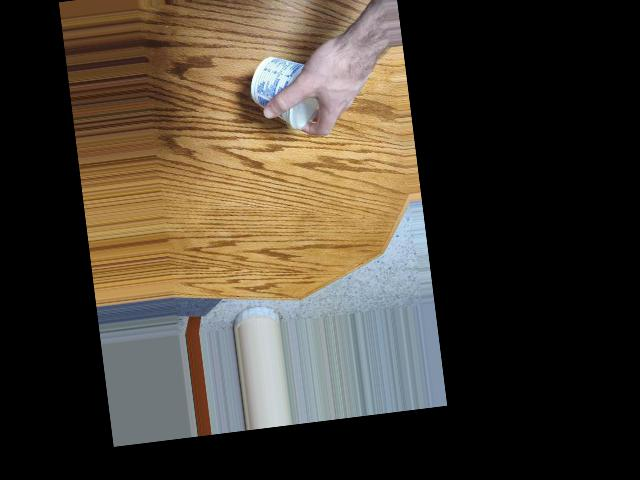cotage: (252, 41, 333, 133)
